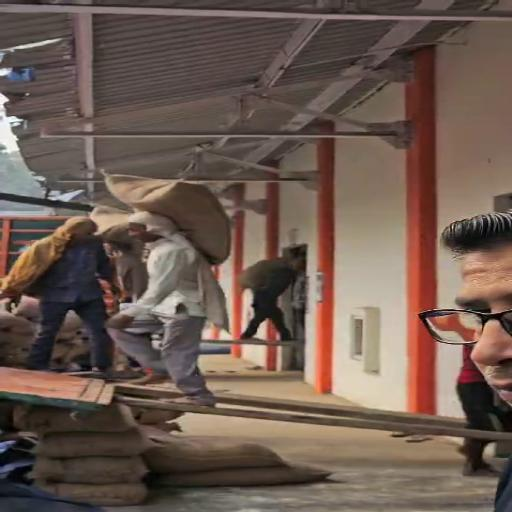bag: (98, 168, 238, 262)
